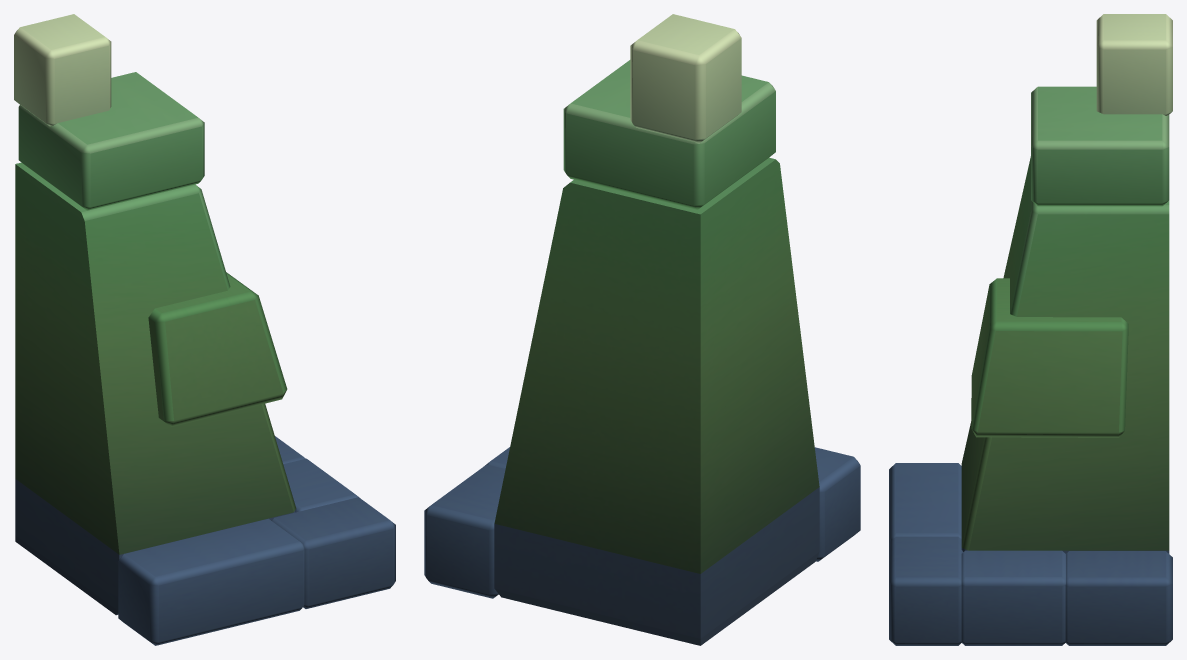
Rendered from wall_corner_convex.fbx.
The picture shows the model from 3 angles, left to right: view 1: azimuth 30°, elevation 25°; view 2: azimuth 150°, elevation 25°; view 3: azimuth 270°, elevation 25°; orthographic projection. The views are drawn at different scales.
Visible parts, largest first — view 1: wall_corner_convex; view 2: wall_corner_convex; view 3: wall_corner_convex.
Part boxes in pixels (left/top/right/bottom): wall_corner_convex: left=14, top=14, right=395, bottom=645; wall_corner_convex: left=424, top=14, right=860, bottom=645; wall_corner_convex: left=889, top=14, right=1172, bottom=645.
Size of the model in its own units: 205 by 413 by 205.
